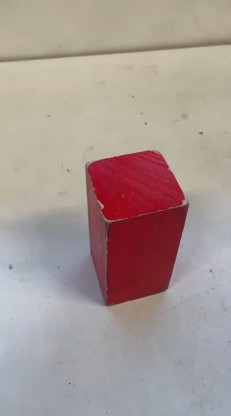red: (93, 144, 185, 296)
